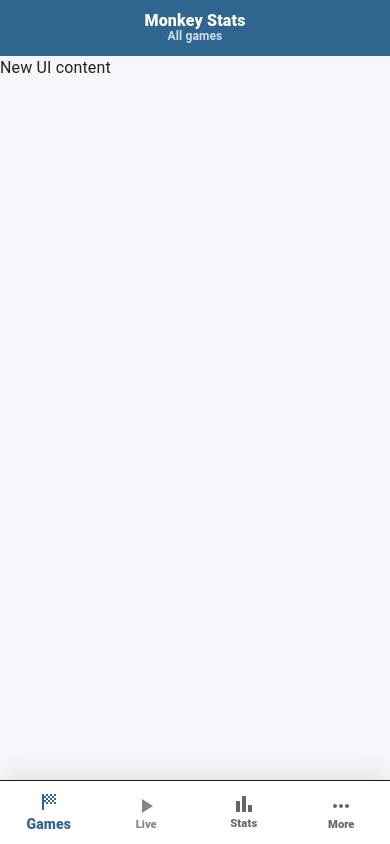
AppShell › opens the drawer from the mobile more navigation action
What coordinates should you click on to do the following:
click the button "More"
I would click on:
 (341, 812)
Its box is x1=292 y1=781 x2=389 y2=843.
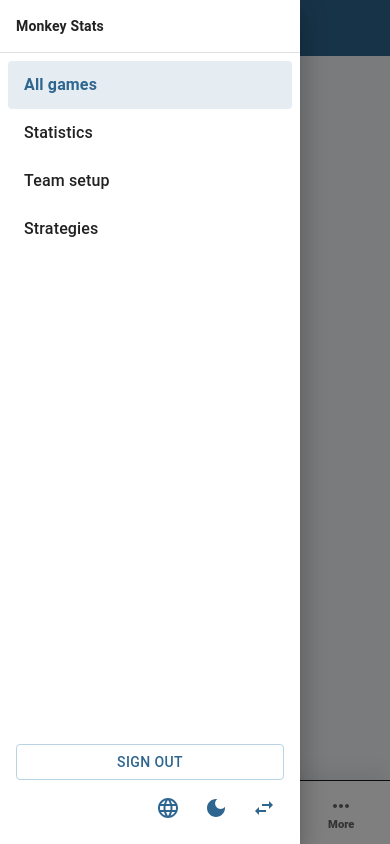
Check: the link "Team setup" is shown, box x1=24 y1=171 x2=110 y2=190
